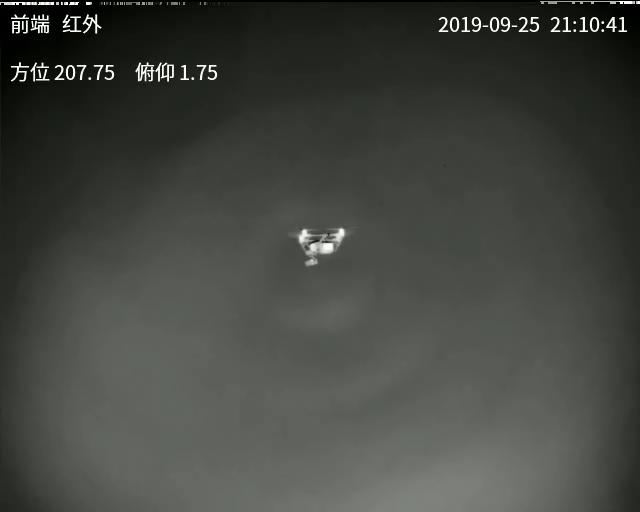uav: (290, 224, 343, 269)
